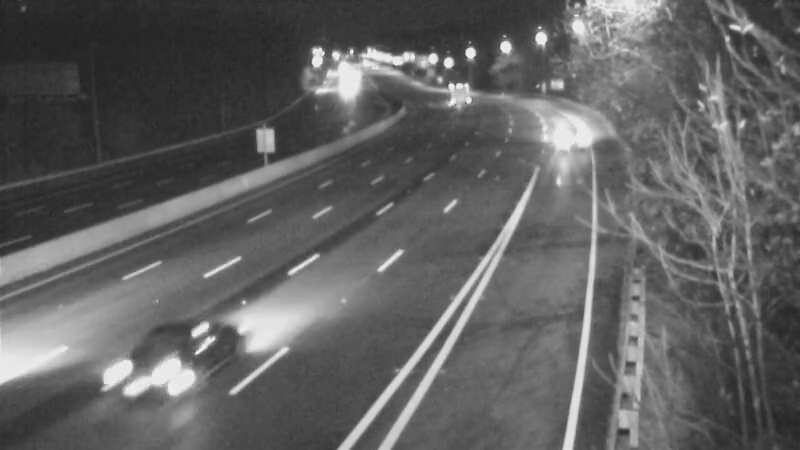vehicle: (108, 316, 218, 426), (426, 70, 476, 120), (540, 112, 590, 162), (323, 66, 373, 116)
